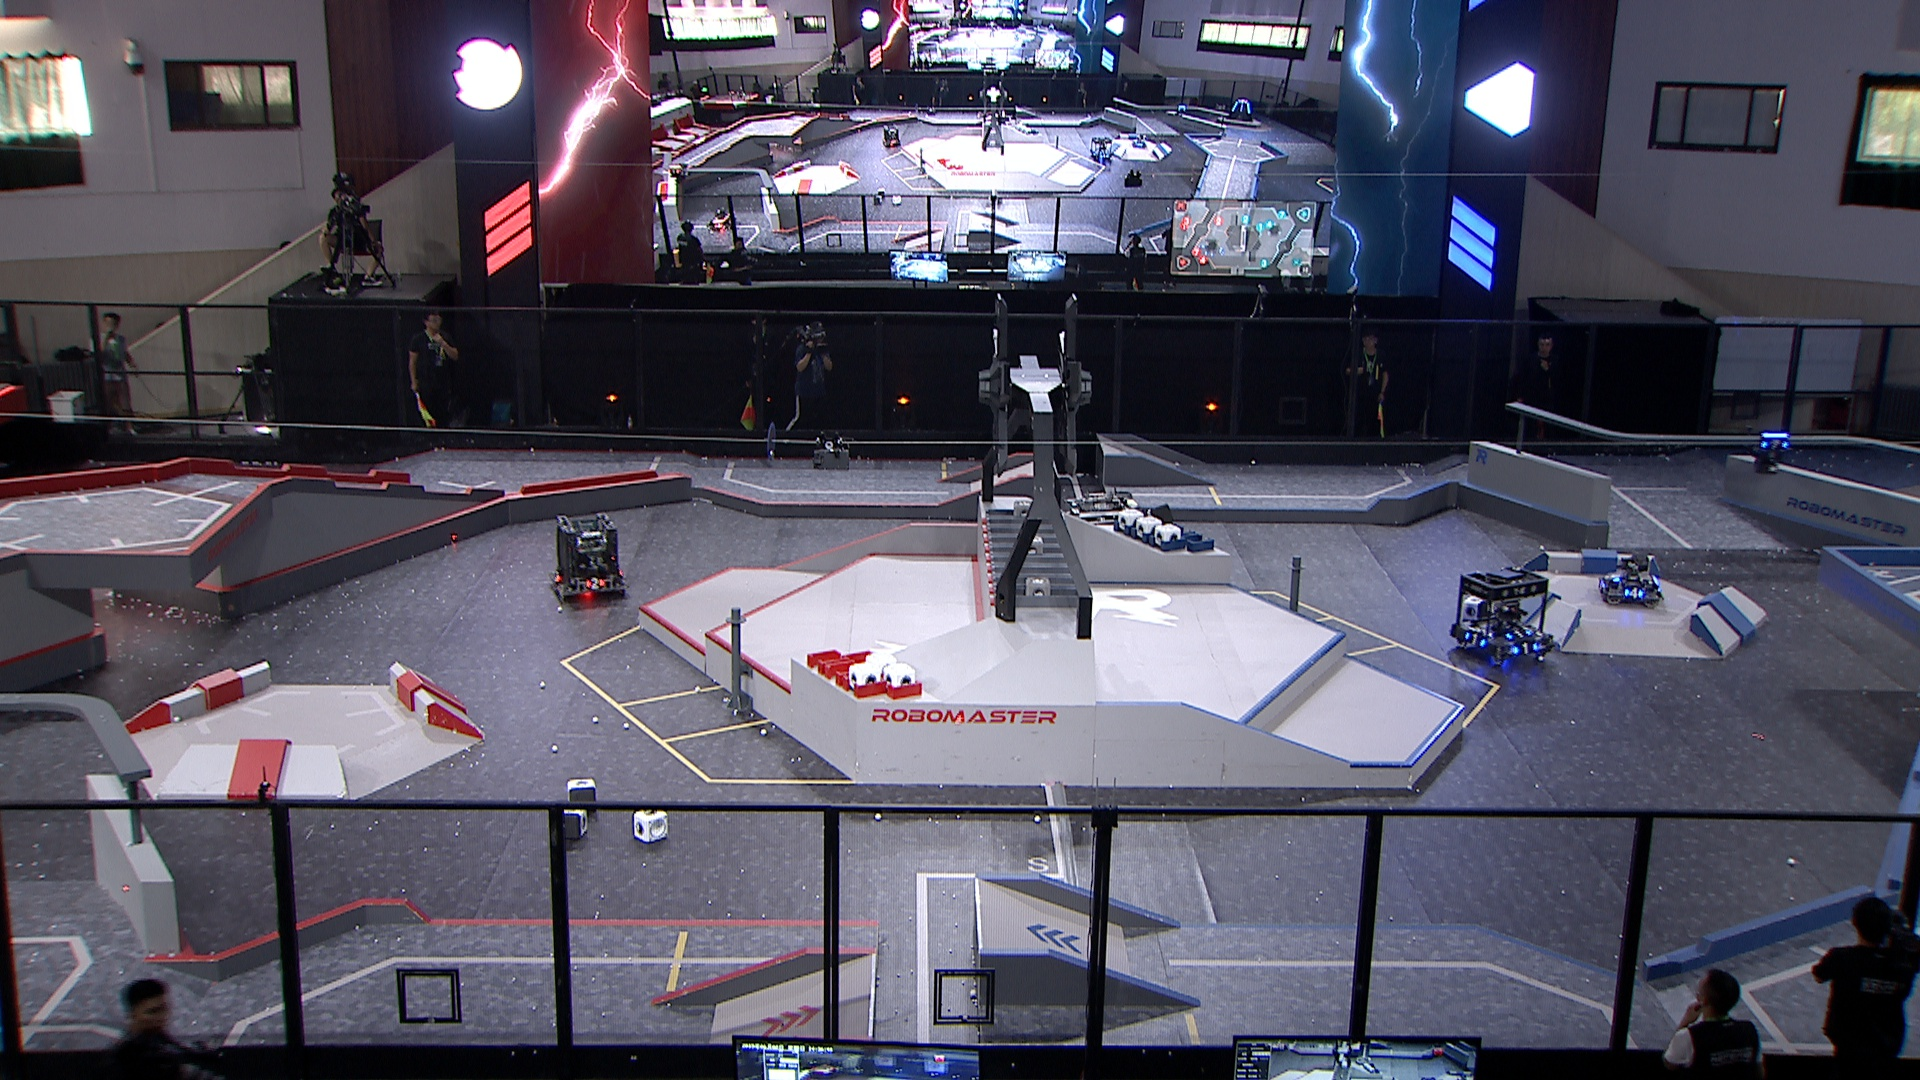armor: (1462, 632, 1486, 647), (1514, 642, 1539, 655), (583, 576, 605, 589), (1509, 626, 1528, 641), (1762, 438, 1785, 450), (1623, 588, 1643, 599), (553, 570, 564, 584), (1596, 579, 1607, 593), (1607, 571, 1621, 583)
car: (1448, 560, 1553, 669), (546, 509, 632, 607), (1058, 488, 1145, 564), (1596, 551, 1665, 613)
ignore: (1224, 98, 1258, 127), (702, 208, 741, 233), (1084, 135, 1114, 164), (665, 160, 692, 178), (882, 123, 901, 149), (1127, 131, 1149, 148), (1174, 100, 1191, 120)
watcher: (1747, 419, 1793, 475)
